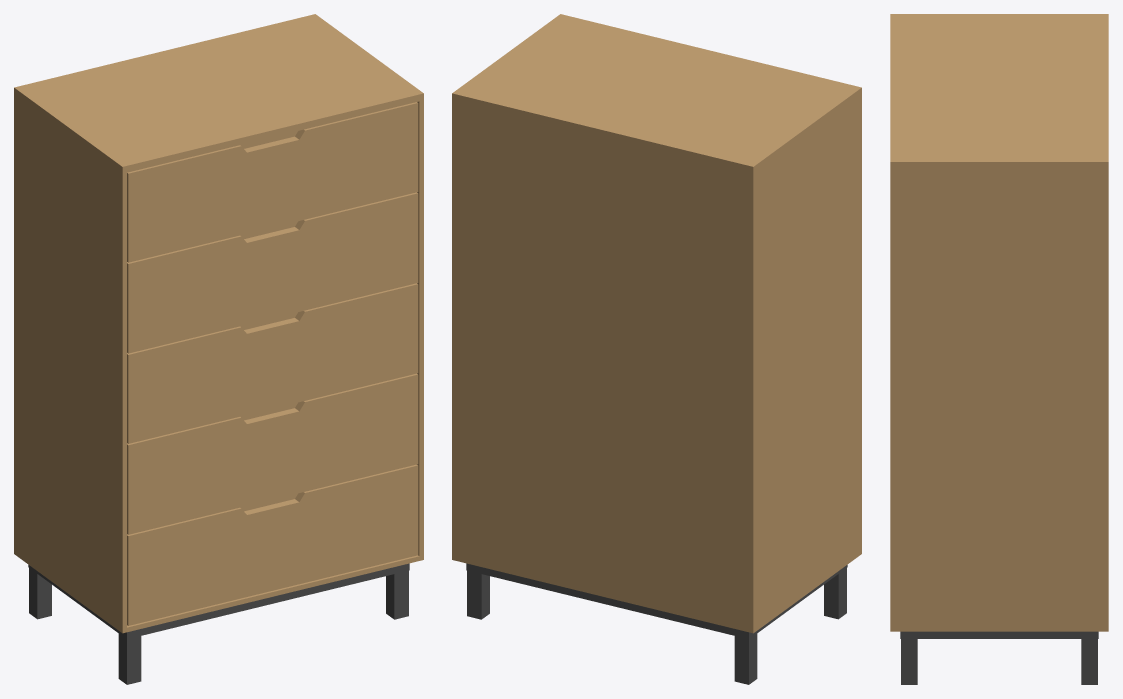
The model's file is drawer.fbx.
3 renders of one model, left to right at view 1: azimuth 30°, elevation 25°; view 2: azimuth 150°, elevation 25°; view 3: azimuth 270°, elevation 25°, orthographic.
Visible parts, largest first — view 1: drawer4; view 2: drawer4; view 3: drawer4.
Part boxes in pixels (box(x1,y1,x2,y2)): drawer4: box(14, 14, 423, 684); drawer4: box(452, 14, 861, 684); drawer4: box(890, 14, 1108, 684).
Size of the model in its own units: 77 by 128 by 48.
